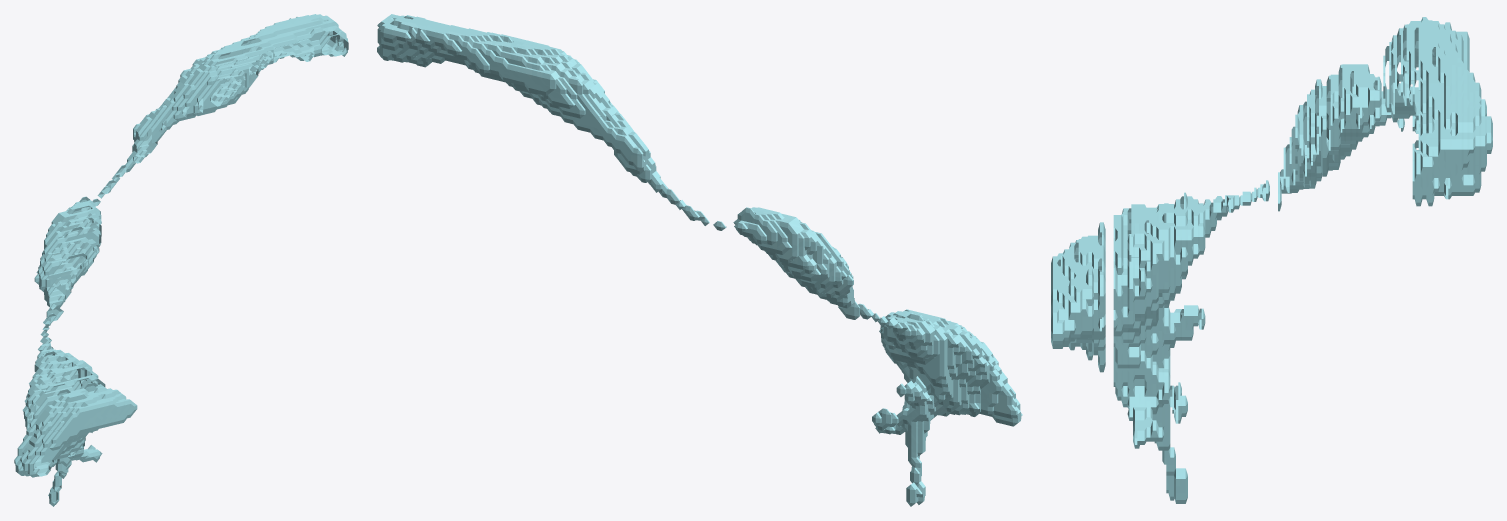
File: SVV_ADLL.gltf
The picture shows the model from 3 angles, left to right: view 1: azimuth 30°, elevation 25°; view 2: azimuth 150°, elevation 25°; view 3: azimuth 270°, elevation 25°; orthographic projection. The views are drawn at different scales.
Visible parts, largest first — view 1: ADLL; view 2: ADLL; view 3: ADLL.
Boxes of the visible parts, x1=… form: ADLL: x1=14, y1=14, x2=348, y2=506; ADLL: x1=377, y1=14, x2=1022, y2=506; ADLL: x1=1051, y1=17, x2=1492, y2=503.
Bounding box in the file's own units: 62494 × 51229 × 28942.
